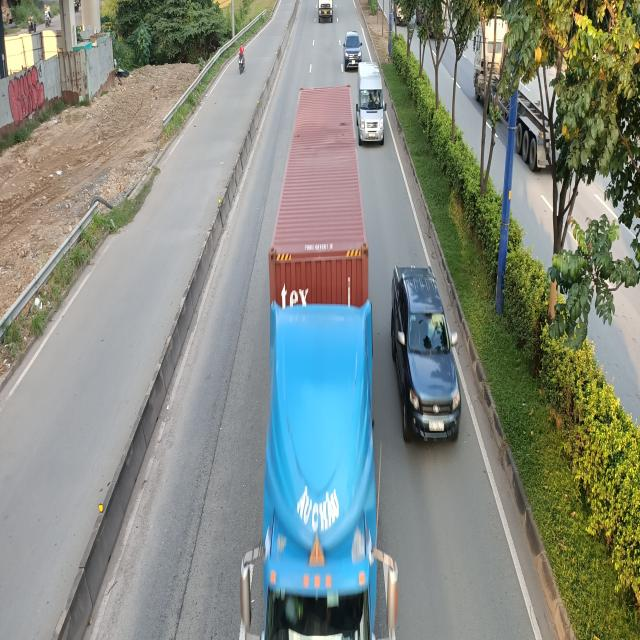car: (390, 266, 461, 444), (343, 31, 363, 70)
container: (243, 86, 381, 640)
van: (354, 60, 384, 144)
